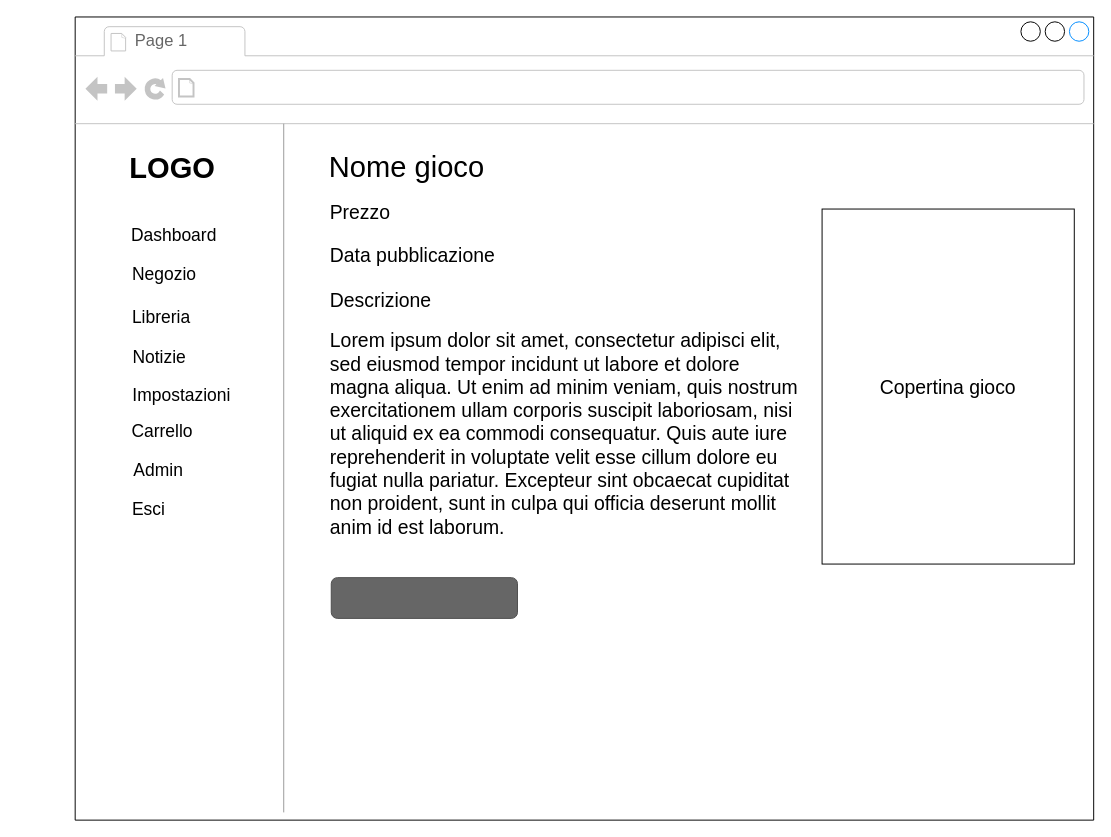
The diagram is 1111 pixels wide and 837 high, and some of its shapes have lost their labels. The centre of each missing label's shape, as x and y in pixels:
Aggiungi al carrello: (423,597)
https://www.default.com: (322,87)
